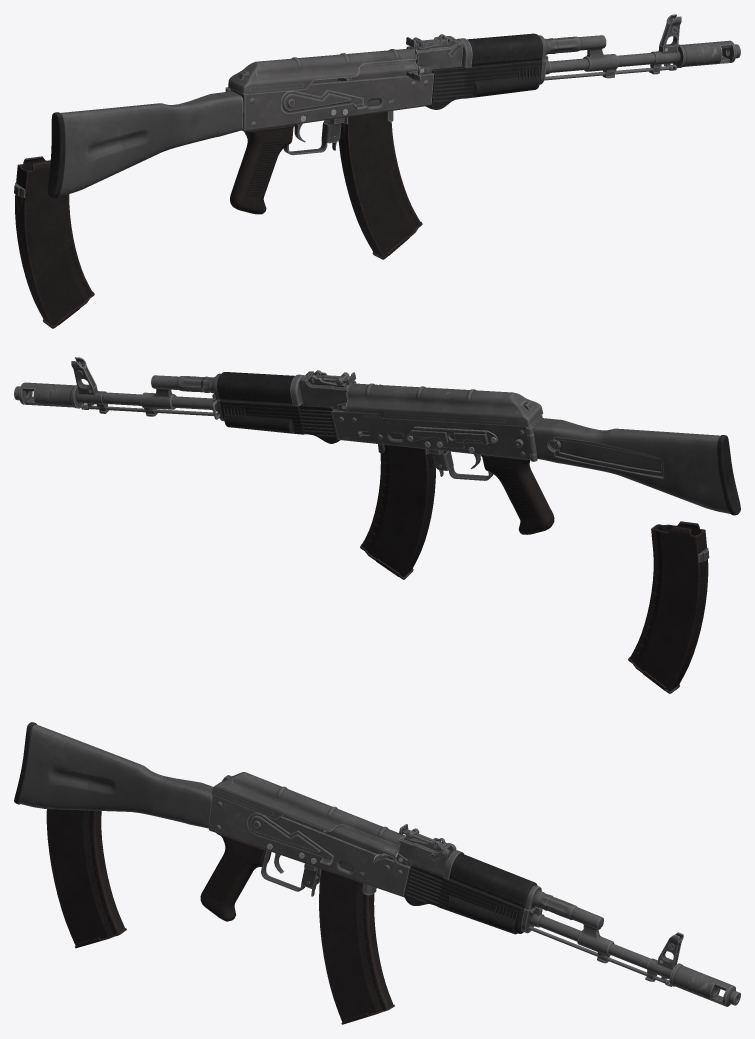
3 renders of one model, top to bottom at view 1: azimuth 30°, elevation 25°; view 2: azimuth 150°, elevation 25°; view 3: azimuth 330°, elevation 25°, orthographic.
Parts seen in each view (by area): view 1: SM_AK74M; view 2: SM_AK74M; view 3: SM_AK74M.
Boxes of the visible parts, left/top/right/bottom form: SM_AK74M: left=14, top=14, right=740, bottom=328; SM_AK74M: left=14, top=357, right=740, bottom=693; SM_AK74M: left=14, top=722, right=740, bottom=1024.
Bounding box in the file's own units: 94.3 × 30.39 × 10.53.
Materials: 1 (1 with a texture image).
